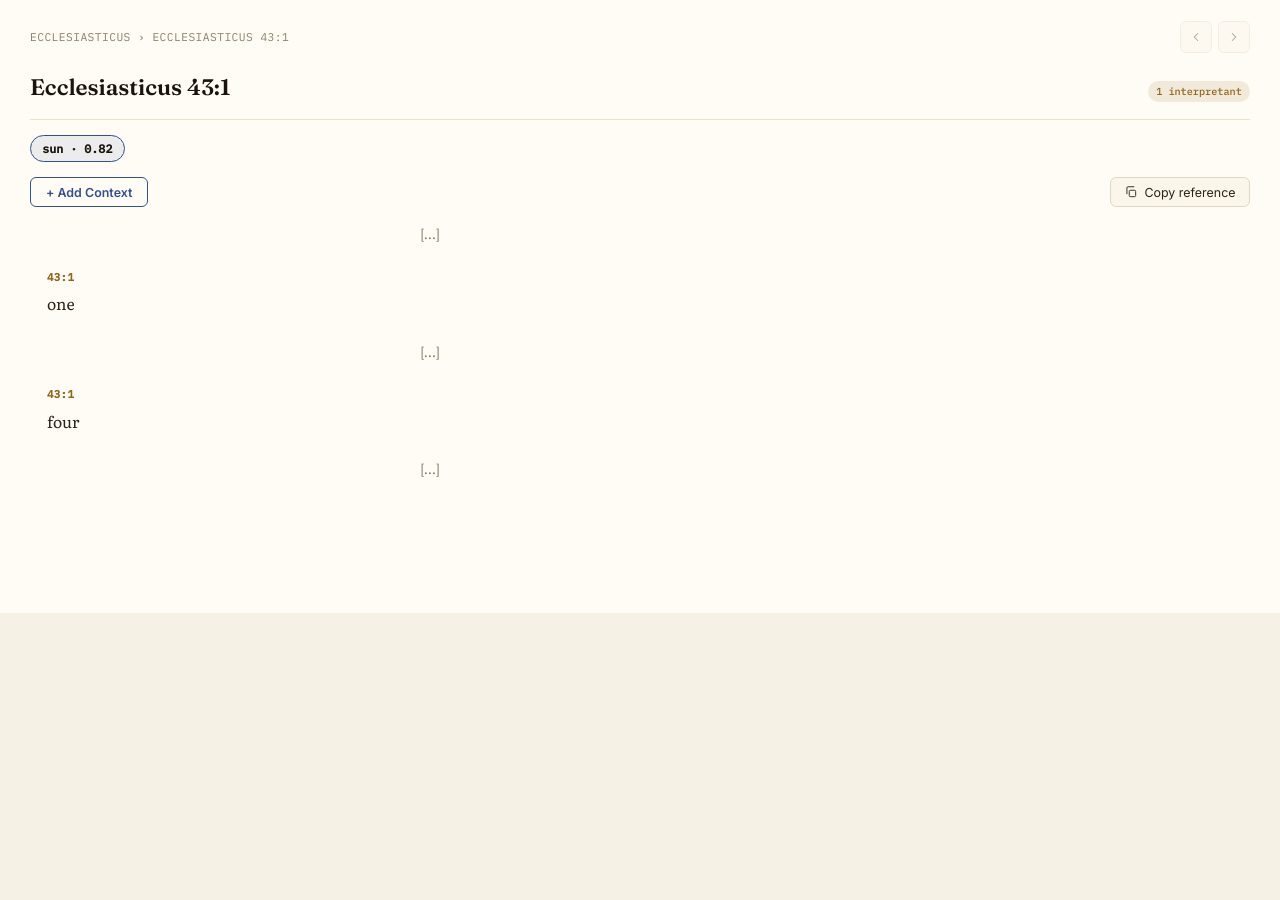
it: Add Context › passes the current segment count so the backend can fill a gap first instead of also growing edges
This screenshot has width=1280, height=900.
Click the button "+ Add Context" at (89, 192), box [30,177,148,208]
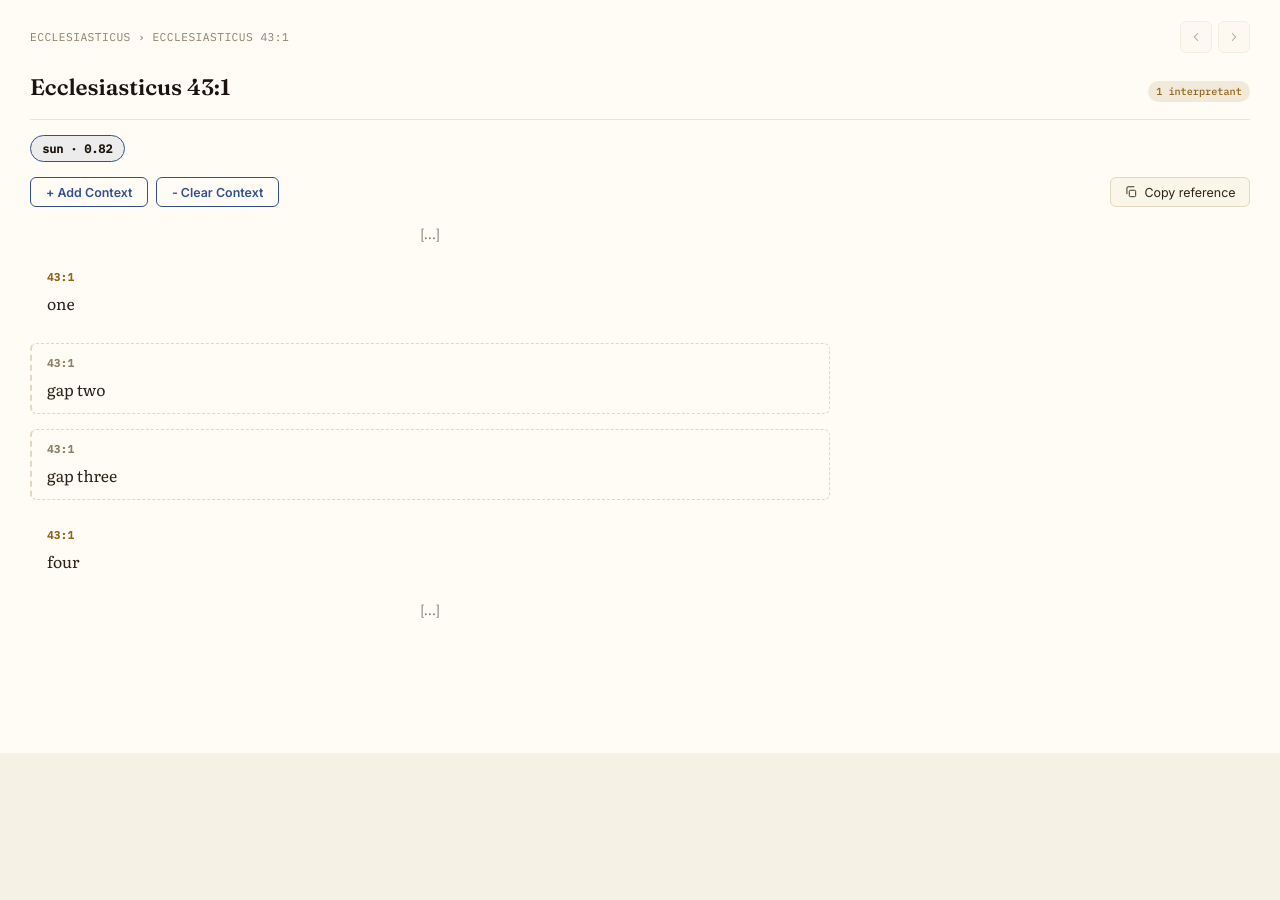
Check: the text "gap two" is shown, box [47,377,105,401]
Check: the text "gap three" is shown, box [47,463,117,487]
